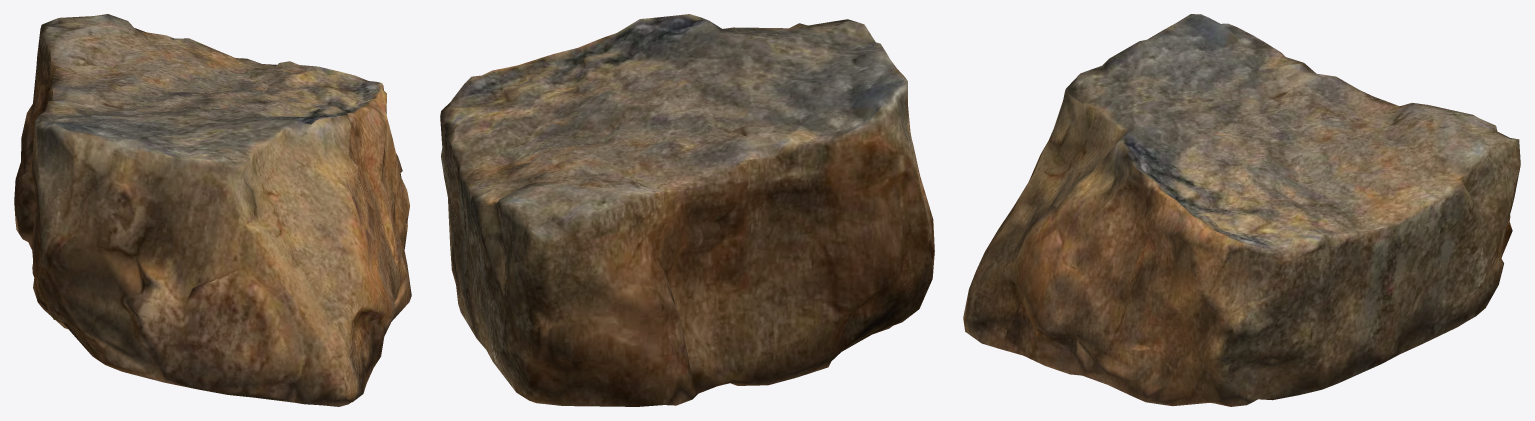
Rendered from namaqualand_boulder_03.glb.
The picture shows the model from 3 angles, left to right: view 1: azimuth 30°, elevation 25°; view 2: azimuth 150°, elevation 25°; view 3: azimuth 270°, elevation 25°; orthographic projection. The views are drawn at different scales.
Visible parts, largest first — view 1: boulder_03_LOD0; view 2: boulder_03_LOD0; view 3: boulder_03_LOD0.
Part boxes in pixels (x1,y1,x2,y2): boulder_03_LOD0: [14, 14, 411, 406]; boulder_03_LOD0: [440, 14, 934, 406]; boulder_03_LOD0: [963, 14, 1520, 406].
Size of the model in its own units: 2.4 by 1.47 by 3.06.
Materials: 1 (1 with a texture image).
